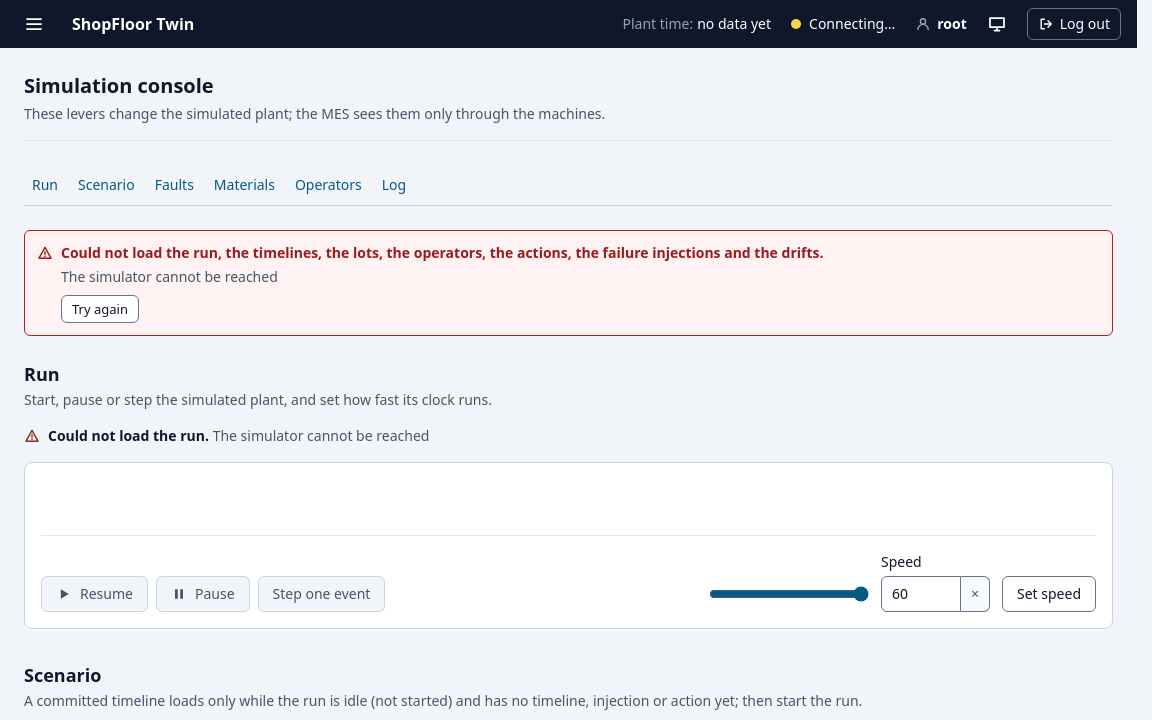
says one error when the simulator is down, each section quietly, one retry for all (#394)
Expected: the 2nd message shows "Could not load the run, the timelines, the lots, the operators, the actions, the failure injections and the drifts.", [61,243,824,262]
Click the button "Try again" at coordinates (100, 309), box [61,295,139,323]
(page scrolled)
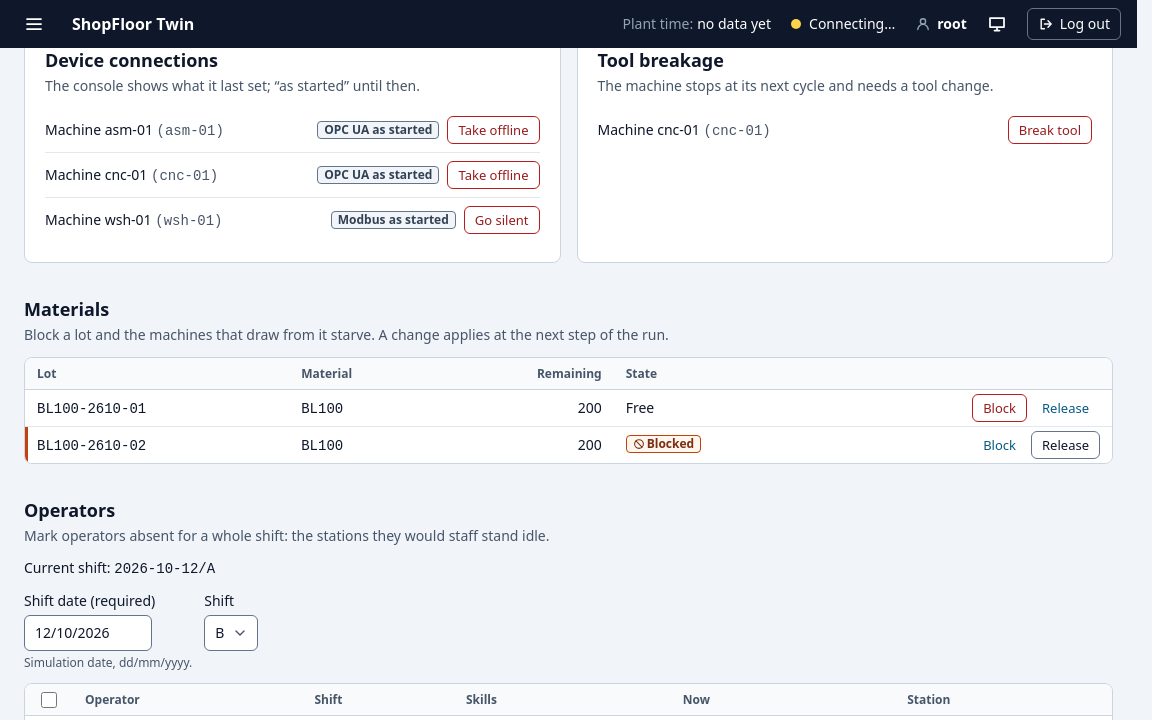
Expected: the row with test id "lot-BL100-2610-01" is shown, [25,390,1112,426]
